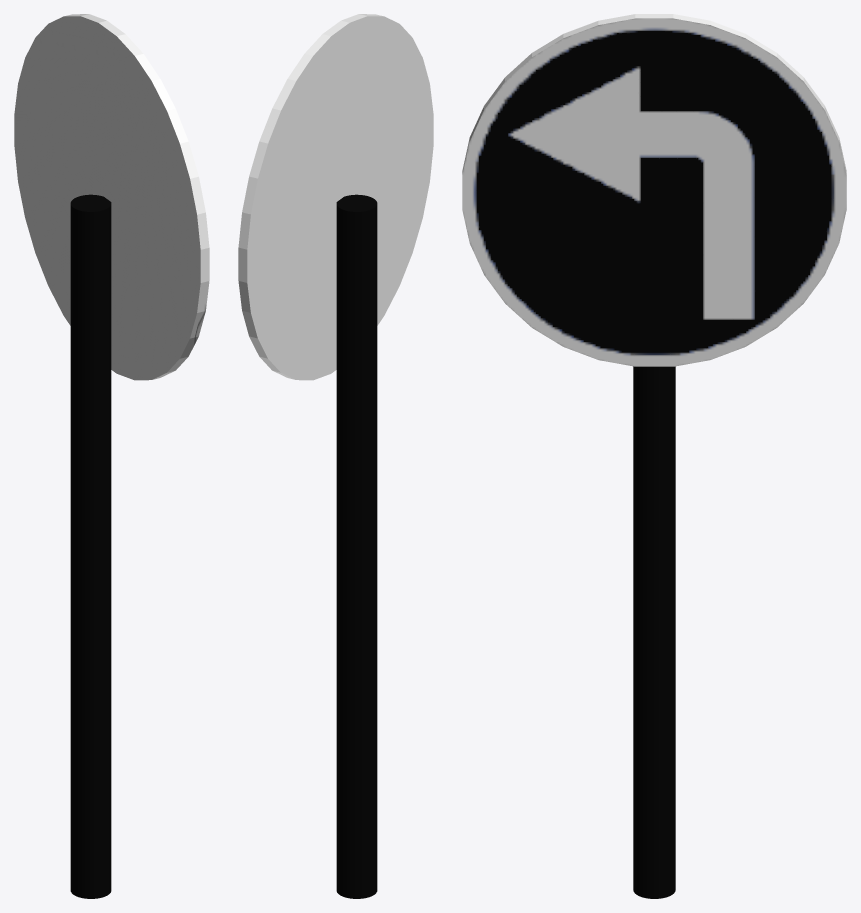
Rendered from Sign_Left_Circle_Black.fbx.
3 views of the same model, side by side, from view 1: azimuth 30°, elevation 25°; view 2: azimuth 150°, elevation 25°; view 3: azimuth 270°, elevation 25° (orthographic). The views are drawn at different scales.
Parts seen in each view (by area): view 1: Sign_Left, Pole.001; view 2: Sign_Left, Pole.001; view 3: Sign_Left, Pole.001.
Part boxes in pixels (x1,y1,x2,y2): Sign_Left: (14, 14, 209, 380); Pole.001: (70, 194, 111, 898); Sign_Left: (238, 14, 433, 380); Pole.001: (336, 194, 377, 898); Sign_Left: (462, 14, 846, 366); Pole.001: (633, 366, 675, 898).
Size of the model in its own units: 5.85 by 111 by 43.79.
